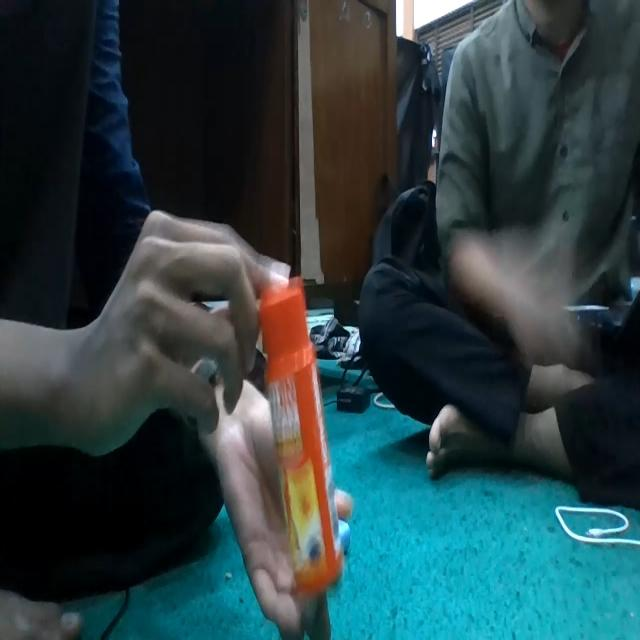Boncabe: (260, 279, 343, 595)
Powerbank: (337, 519, 350, 555)
